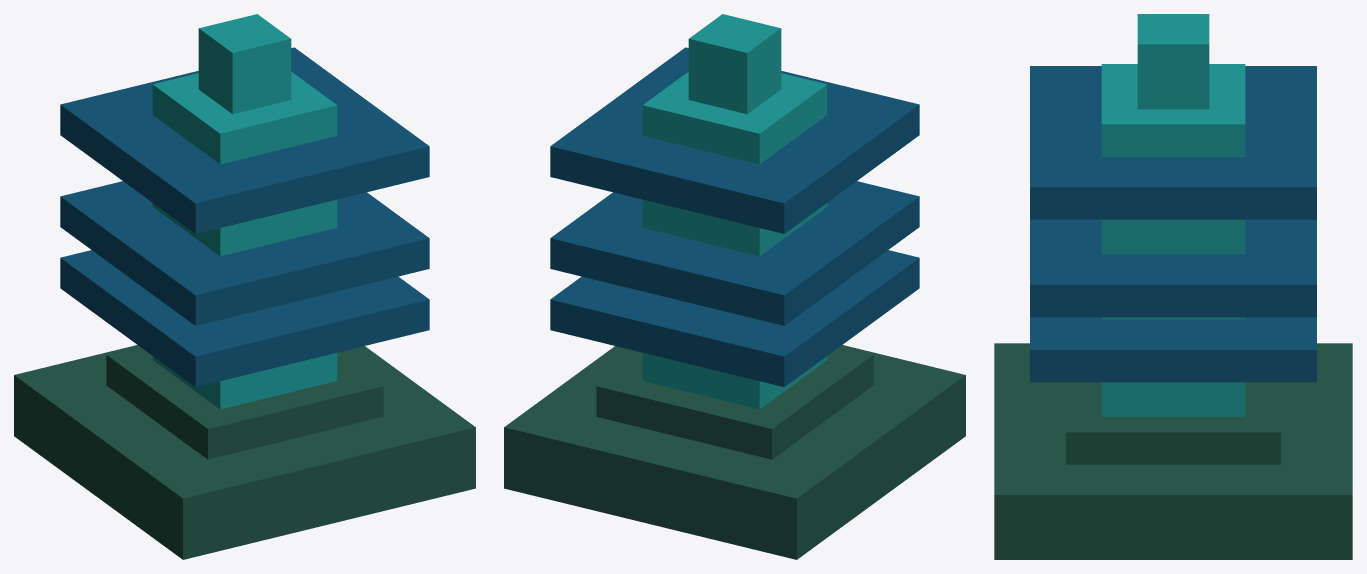
The model's file is WaterTower.obj.
3 renders of one model, left to right at view 1: azimuth 30°, elevation 25°; view 2: azimuth 150°, elevation 25°; view 3: azimuth 270°, elevation 25°, orthographic. The views are drawn at different scales.
Visible parts, largest first — view 1: material_2_group, material_1_group, material_0_group; view 2: material_2_group, material_1_group, material_0_group; view 3: material_2_group, material_1_group, material_0_group.
Boxes of the visible parts, x1=… form: material_2_group: x1=60, y1=47, x2=429, y2=387; material_1_group: x1=14, y1=345, x2=475, y2=559; material_0_group: x1=152, y1=14, x2=337, y2=409; material_2_group: x1=550, y1=47, x2=919, y2=387; material_1_group: x1=504, y1=345, x2=965, y2=559; material_0_group: x1=642, y1=14, x2=827, y2=409; material_2_group: x1=1030, y1=66, x2=1316, y2=382; material_1_group: x1=994, y1=343, x2=1352, y2=559; material_0_group: x1=1101, y1=14, x2=1245, y2=416.
Bounding box in the file's own units: 10 × 14 × 10.
